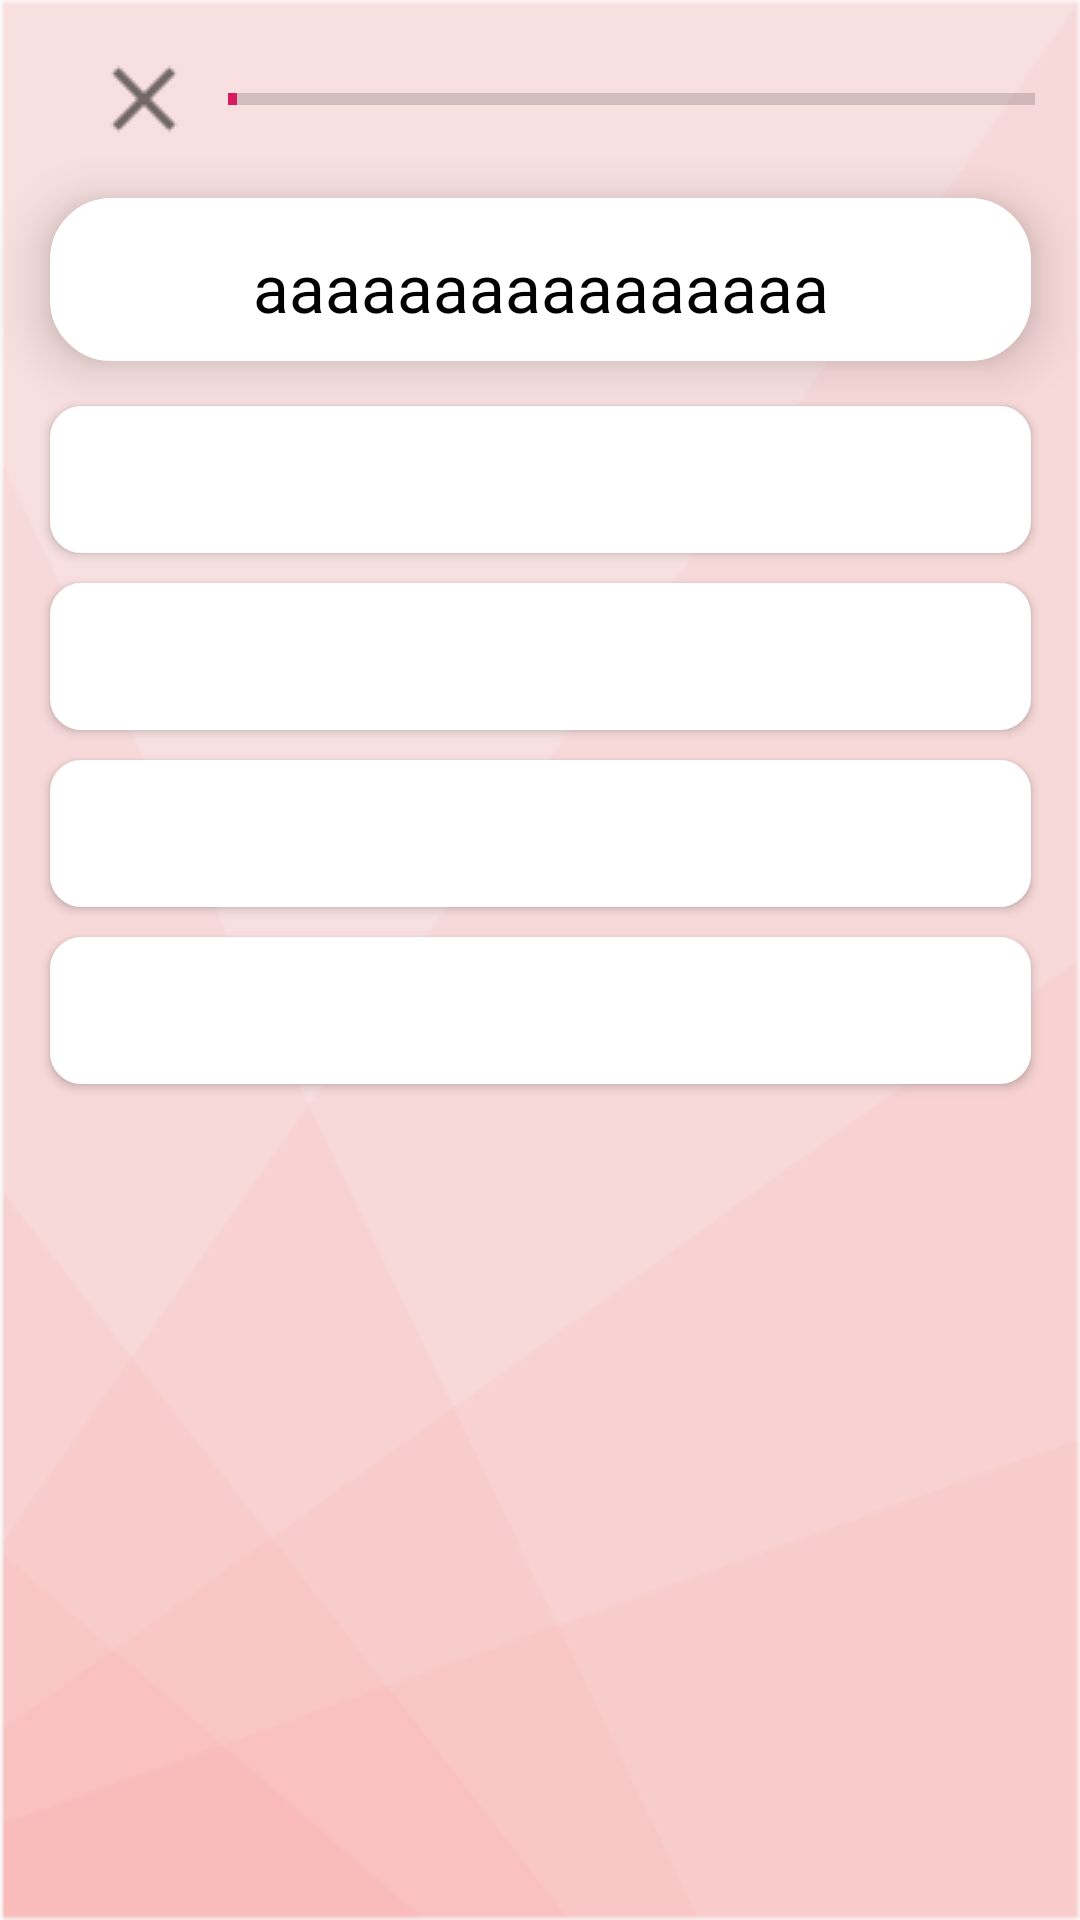

Screen size 1080px x 1920px. Icon name, then its center in pixels as [x,y]:
close fragment card: [144,99]
